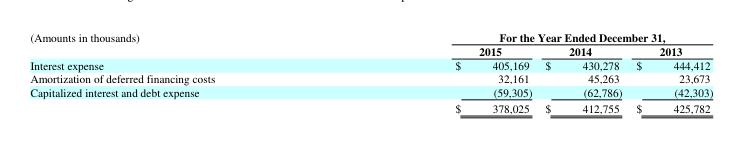table: (29, 28, 712, 114)
table column: (29, 28, 334, 114), (334, 28, 538, 114), (538, 28, 628, 114), (628, 28, 712, 114)
table column header: (29, 28, 712, 58)
table row: (29, 28, 712, 44), (29, 84, 712, 99), (29, 99, 712, 114), (29, 44, 712, 58), (29, 58, 712, 71), (29, 71, 712, 84)
table spanning cell: (29, 28, 334, 58), (334, 28, 712, 44)
